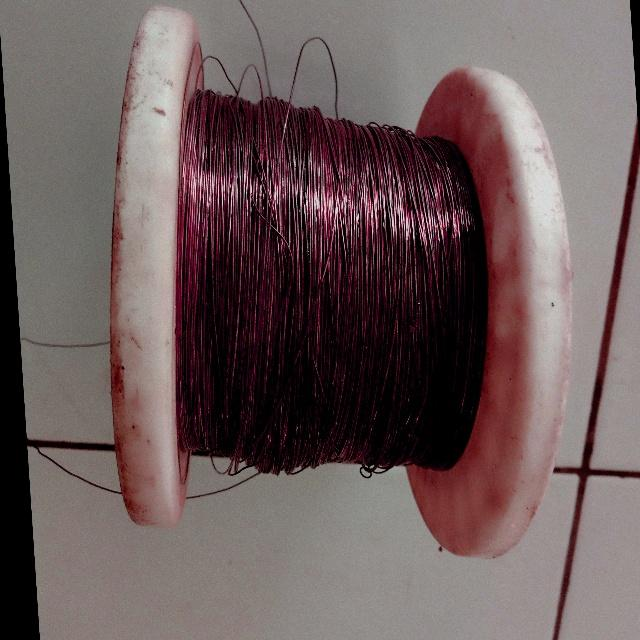Copper Wire: (70, 6, 616, 572)
